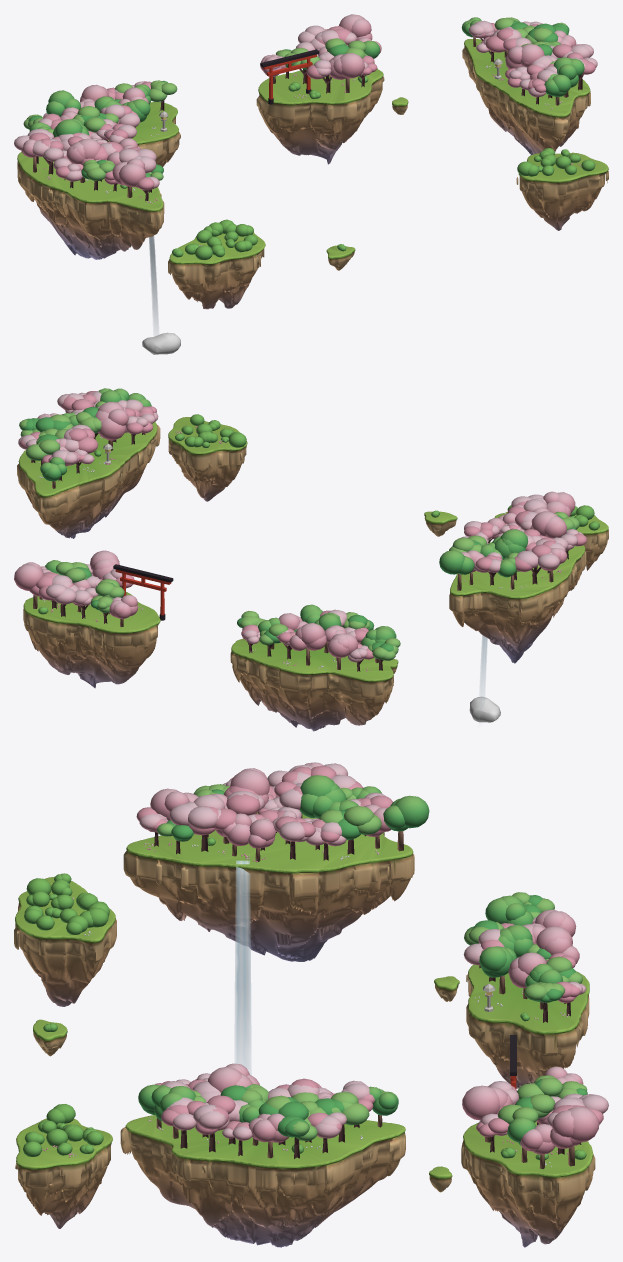
The model's file is yinyang.glb.
3 renders of one model, top to bottom at view 1: azimuth 30°, elevation 25°; view 2: azimuth 150°, elevation 25°; view 3: azimuth 270°, elevation 25°, orthographic. The views are drawn at different scales.
Visible parts, largest first — view 1: decor_leaves, decor_m06, decor_m01, decor_m07, decor_m03, decor_m04, decor_m00, decor_solid, decor_trunks, clouds, waterfall, decor_s00; view 2: decor_leaves, decor_m00, decor_m01, decor_m06, decor_m07, decor_m04, decor_trunks, decor_solid, decor_m03, clouds, decor_s00; view 3: decor_leaves, decor_m06, decor_m07, decor_m01, decor_m00, decor_m03, decor_m04, waterfall, decor_trunks, decor_s00.
Part boxes in pixels (bbox=[...]): decor_leaves: bbox=[14, 14, 597, 259]; decor_m06: bbox=[17, 152, 164, 259]; decor_m01: bbox=[256, 63, 384, 164]; decor_m07: bbox=[462, 39, 590, 154]; decor_m03: bbox=[168, 225, 265, 309]; decor_m04: bbox=[516, 152, 608, 230]; decor_m00: bbox=[108, 102, 180, 166]; decor_solid: bbox=[159, 49, 502, 131]; decor_trunks: bbox=[33, 37, 583, 200]; clouds: bbox=[142, 332, 180, 354]; waterfall: bbox=[149, 236, 158, 335]; decor_s00: bbox=[326, 245, 355, 270]; decor_leaves: bbox=[14, 388, 599, 662]; decor_m00: bbox=[230, 638, 393, 731]; decor_m01: bbox=[23, 592, 160, 688]; decor_m06: bbox=[449, 542, 586, 663]; decor_m07: bbox=[17, 422, 160, 538]; decor_m04: bbox=[168, 417, 247, 501]; decor_trunks: bbox=[31, 432, 568, 671]; decor_solid: bbox=[103, 443, 173, 620]; decor_m03: bbox=[494, 512, 608, 570]; clouds: bbox=[469, 696, 500, 722]; decor_s00: bbox=[424, 511, 457, 536]; decor_leaves: bbox=[23, 762, 608, 1160]; decor_m06: bbox=[123, 812, 414, 961]; decor_m07: bbox=[120, 1115, 405, 1247]; decor_m01: bbox=[461, 1099, 595, 1247]; decor_m00: bbox=[466, 964, 589, 1088]; decor_m03: bbox=[14, 876, 116, 1006]; decor_m04: bbox=[15, 1118, 112, 1228]; waterfall: bbox=[234, 860, 251, 1074]; decor_trunks: bbox=[154, 812, 581, 1169]; decor_s00: bbox=[33, 1019, 67, 1056].
Size of the model in its own units: 35.91 by 14.74 by 25.06.
